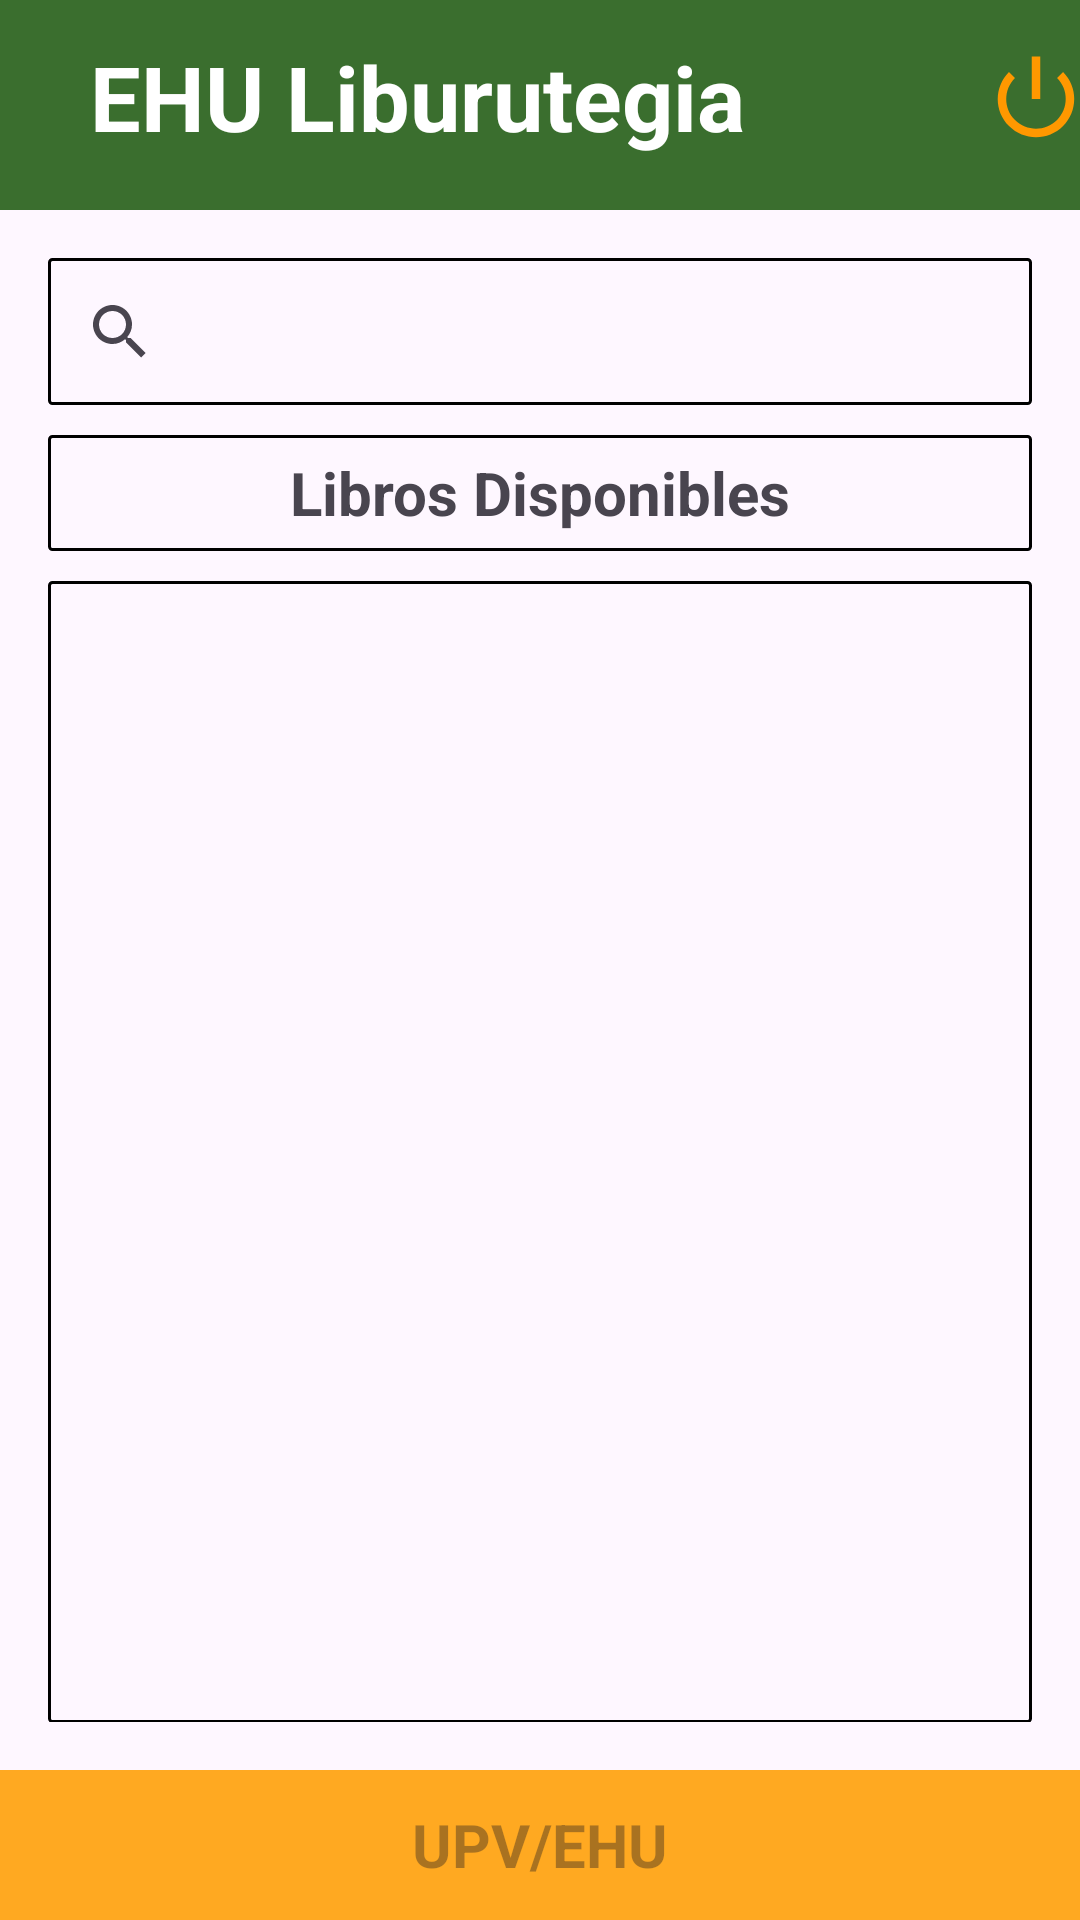

Named icons in this screenshot (1080w x 1920h) and their centers, (x=x, y=y):
lock power off: (x=1036, y=97)
